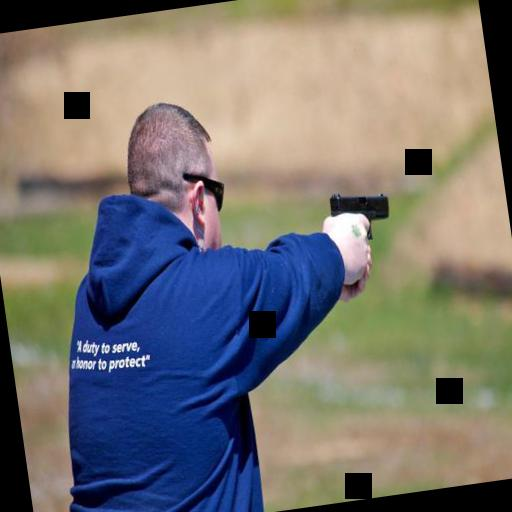Handgun: (322, 180, 396, 250)
